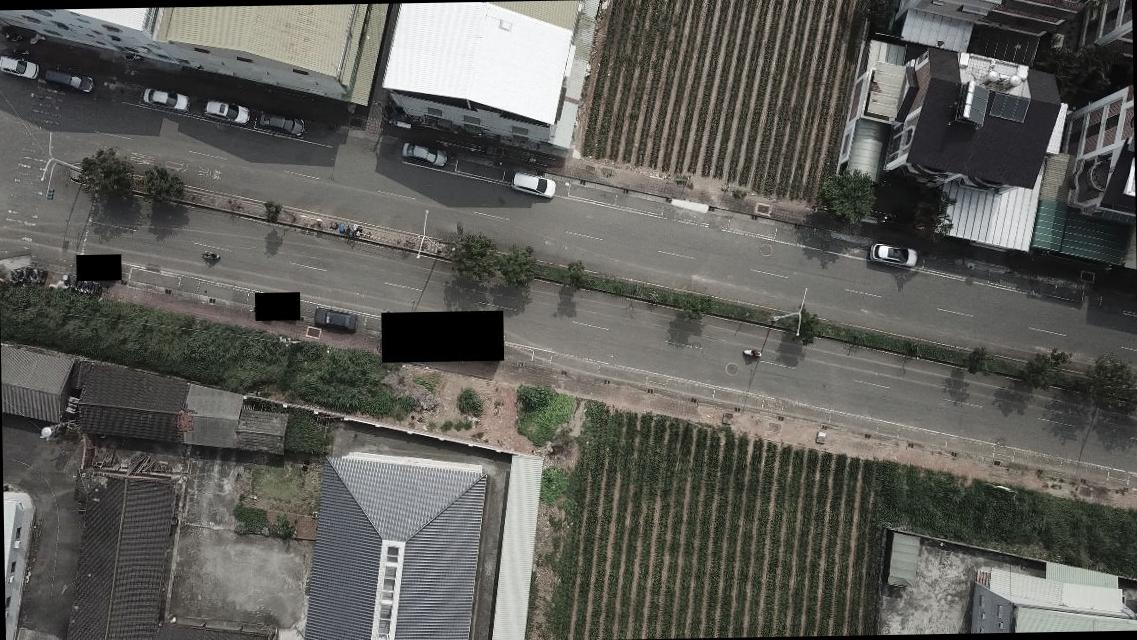vehicle: (399, 140, 448, 171), (511, 170, 558, 199), (256, 108, 304, 136), (204, 100, 250, 128), (141, 88, 190, 114), (314, 306, 357, 332), (46, 67, 94, 90), (0, 54, 39, 82)
